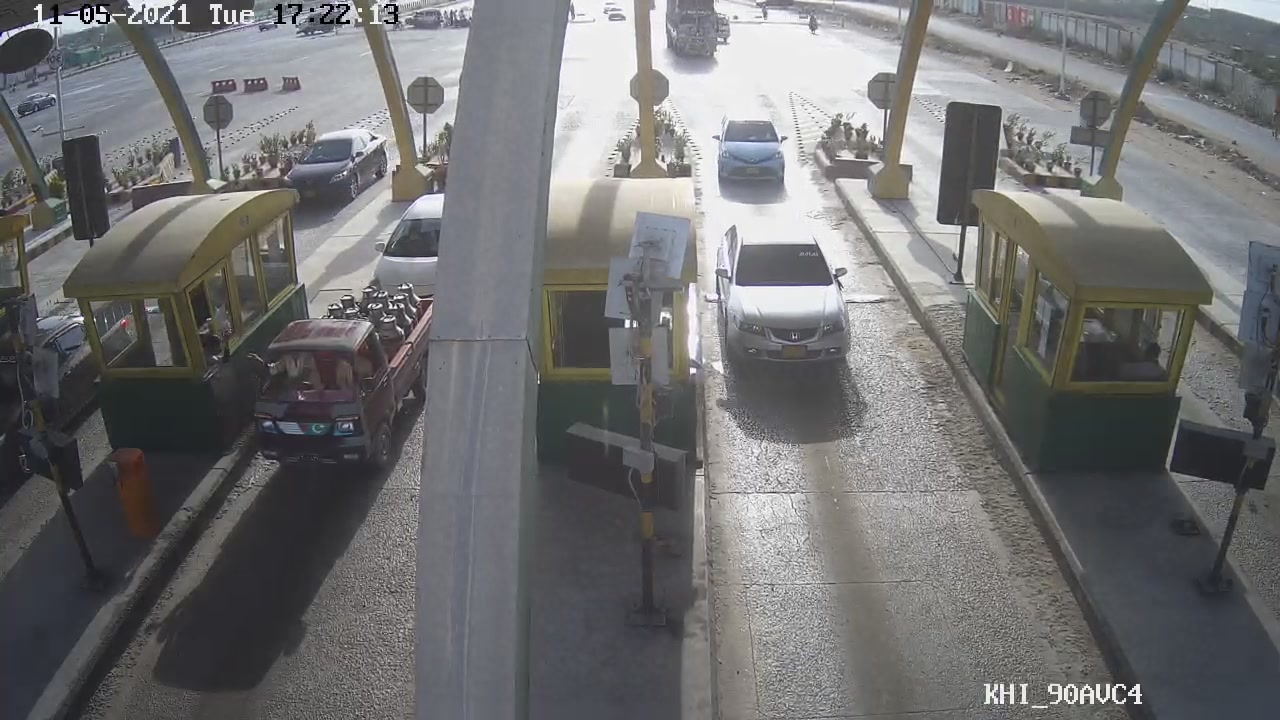F1: (702, 215, 866, 373), (704, 104, 792, 197)
